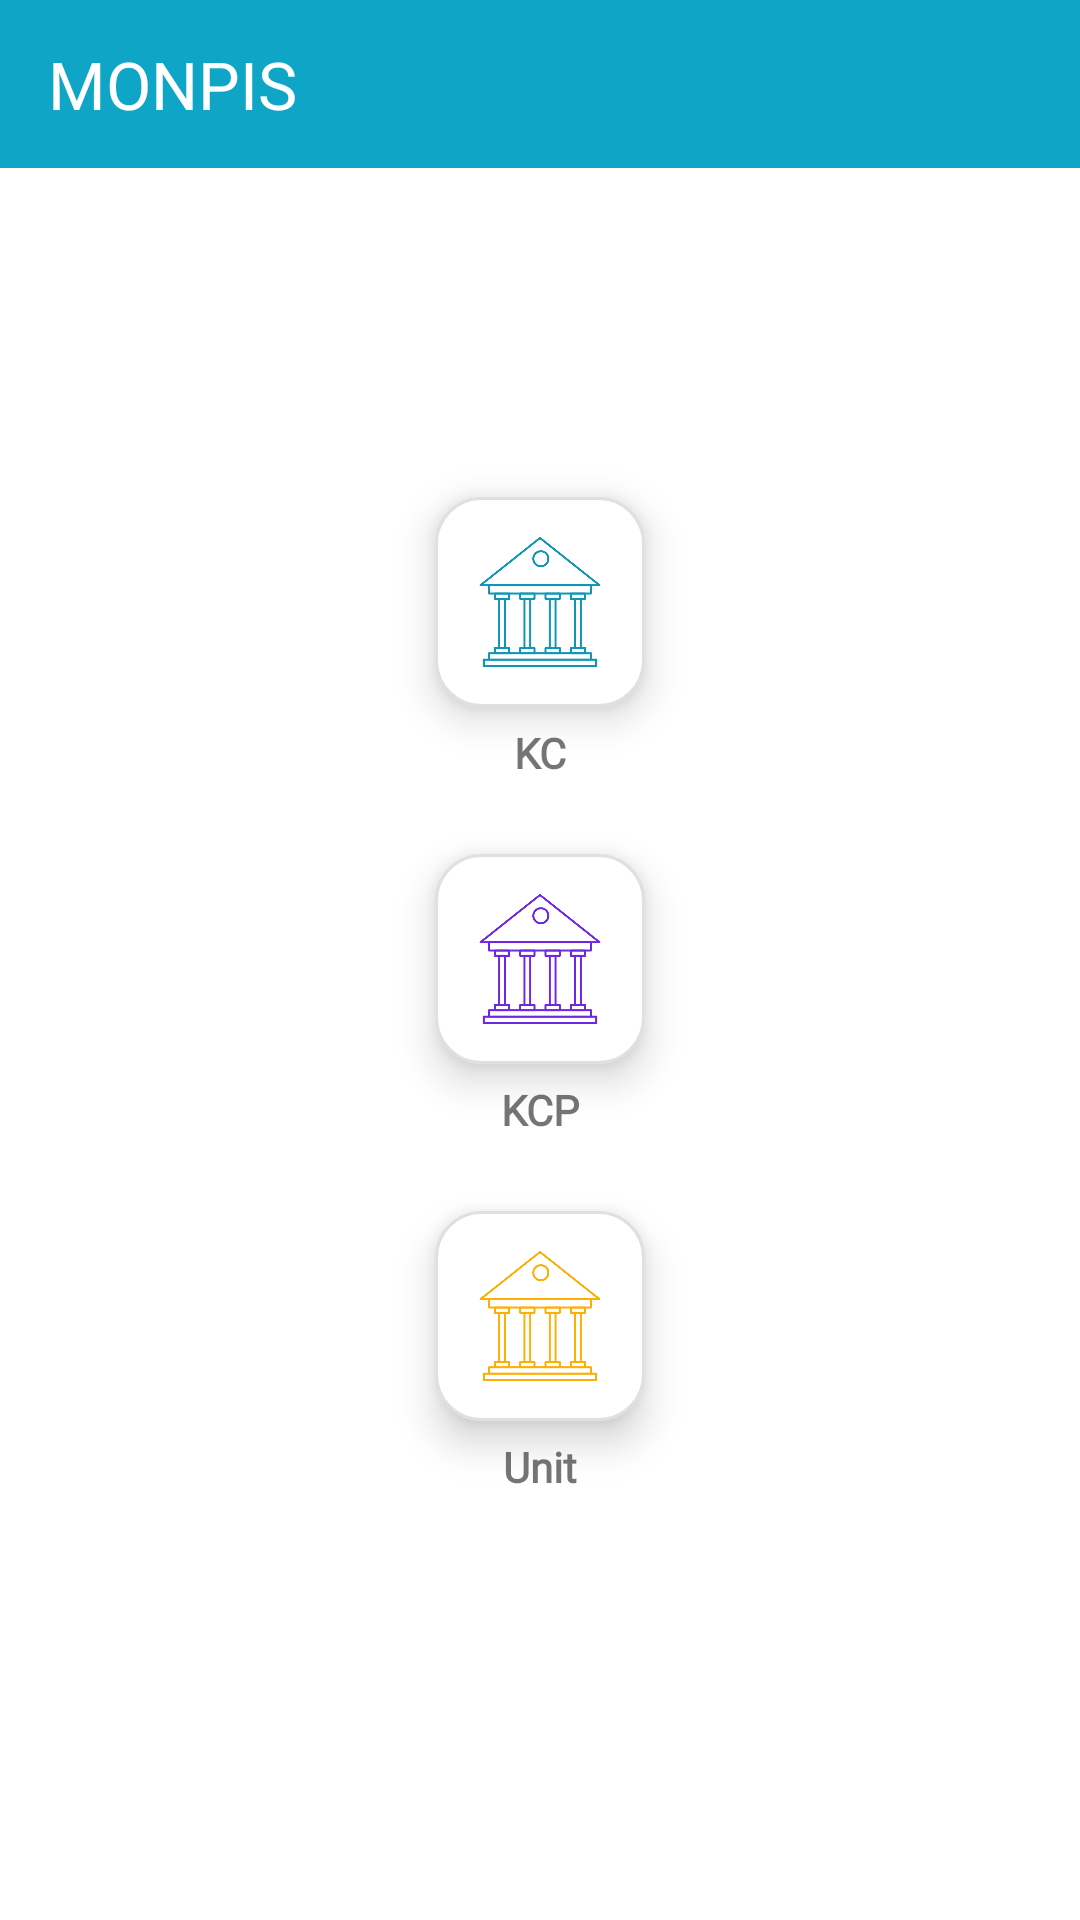

Icon click points for this 1080x1920 phone screenshot, format [x,y]:
bank biru: [540,602]
bank biruu: [540,959]
bank oren: [540,1316]
